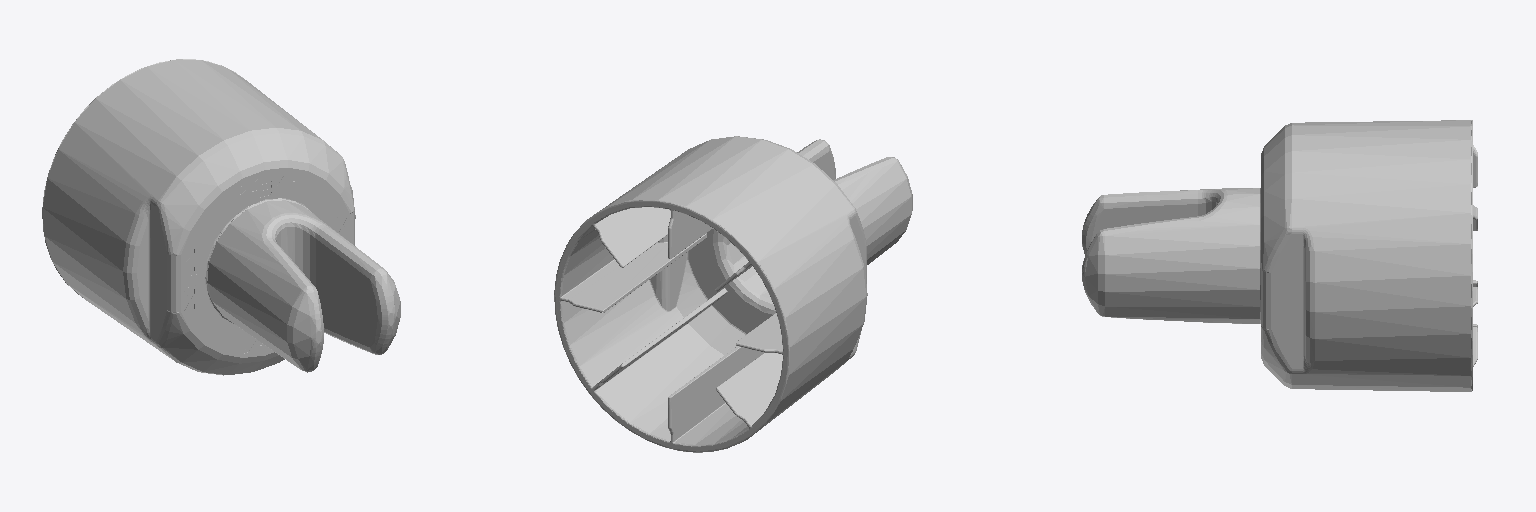
The model's file is VIQRC-MixAndMatch-H2H-_-GameObjects_Pin.obj.
3 views of the same model, side by side, from view 1: azimuth 30°, elevation 25°; view 2: azimuth 150°, elevation 25°; view 3: azimuth 270°, elevation 25° (orthographic).
Visible parts, largest first — view 1: Body1; view 2: Body1; view 3: Body1.
Boxes of the visible parts, box(x1,y1,x2,y2) form: Body1: box(42, 59, 400, 375); Body1: box(554, 136, 912, 452); Body1: box(1082, 120, 1477, 391).
Size of the model in its own units: 79.79 by 79.87 by 116.